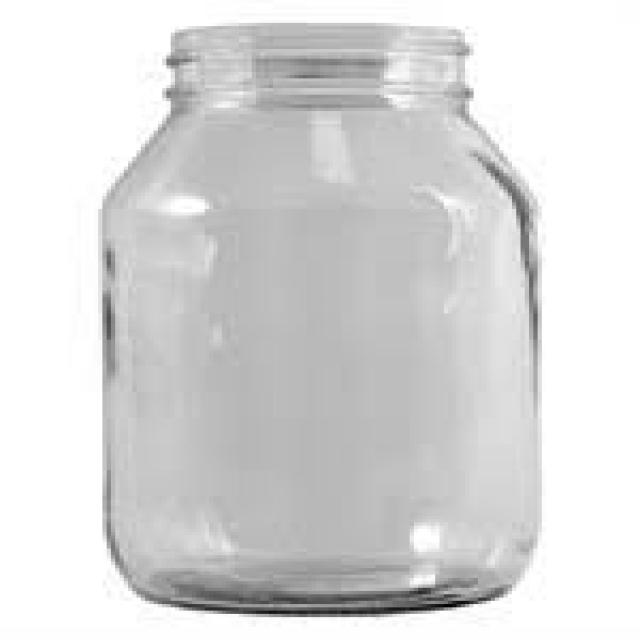glass: (98, 23, 533, 611)
